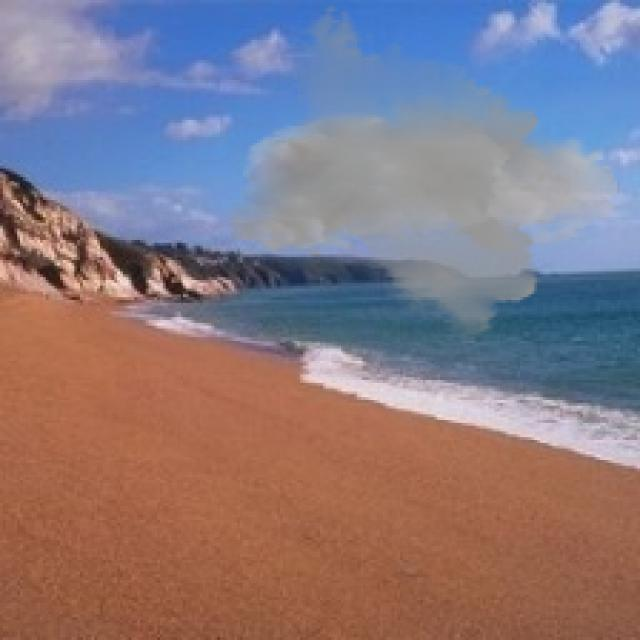Smoke: (225, 3, 620, 346)
